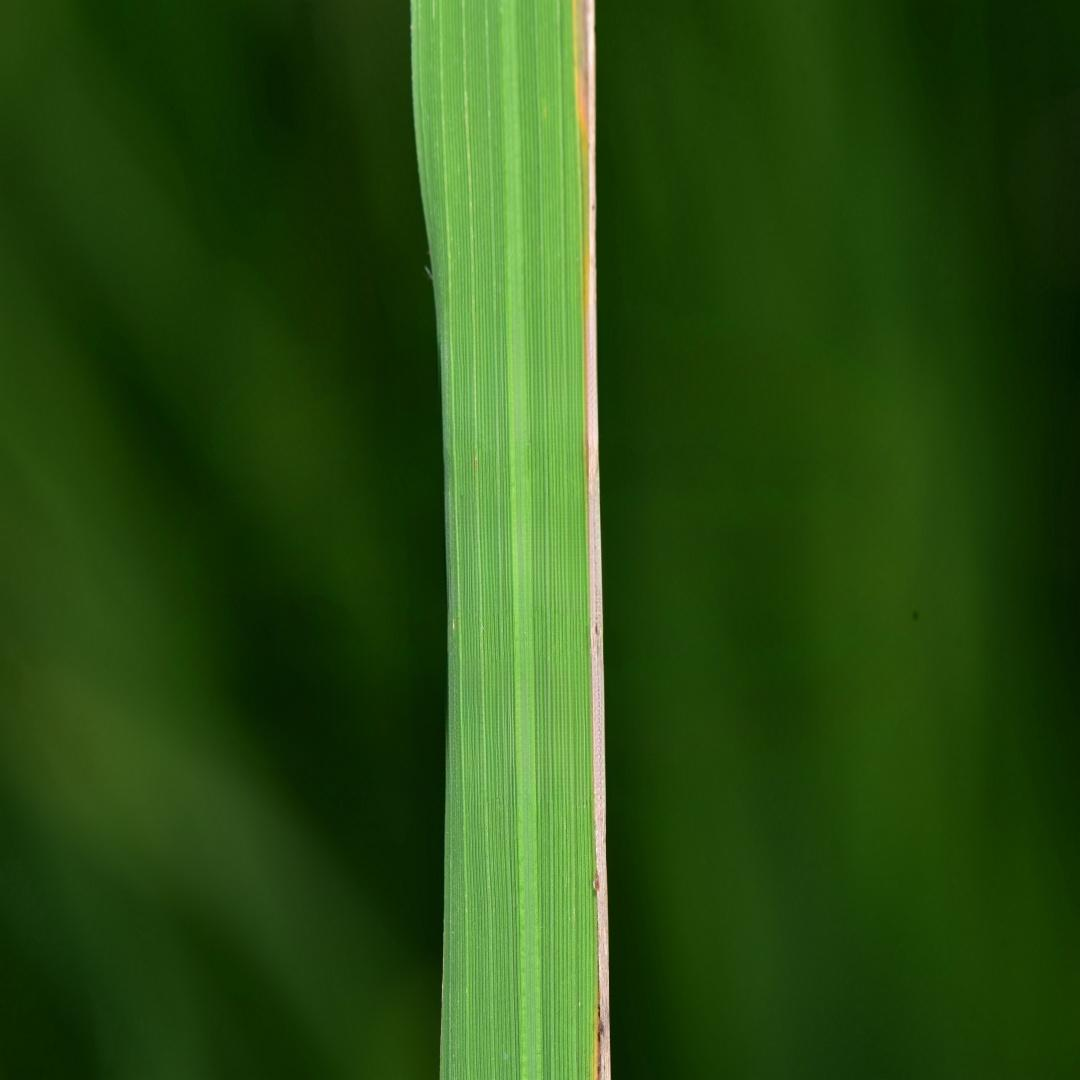BLB: (571, 0, 610, 1079)
LEAF: (410, 0, 611, 1079)
